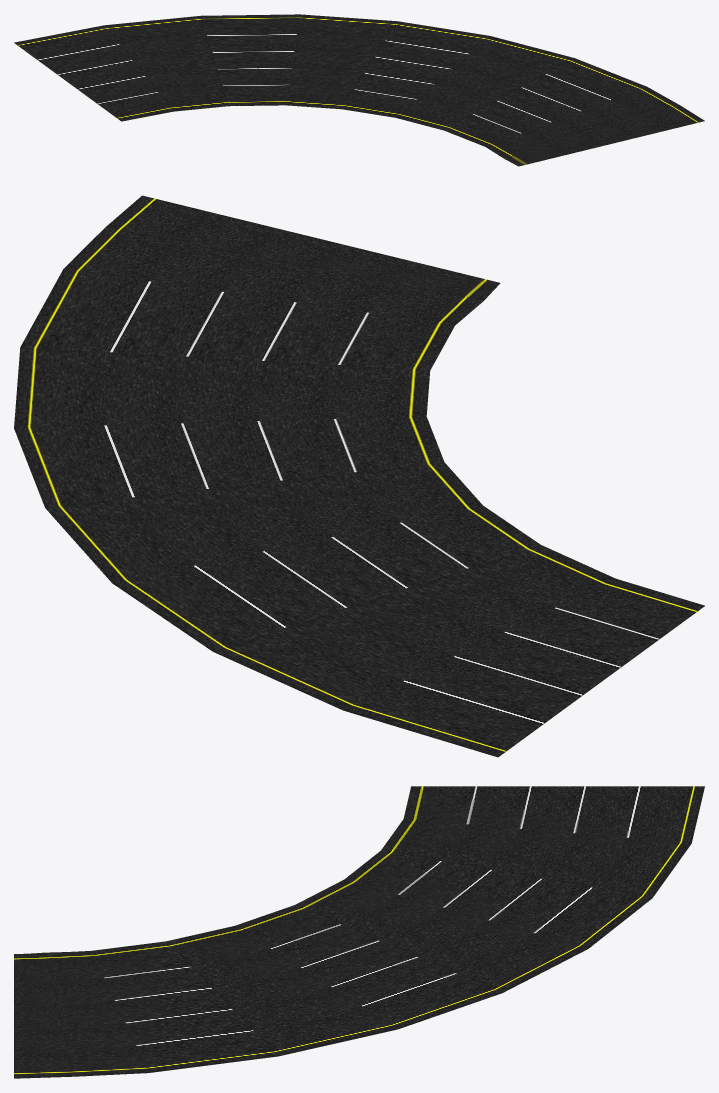
File: curved_5lane_50m.dae
3 renders of one model, top to bottom at view 1: azimuth 30°, elevation 25°; view 2: azimuth 150°, elevation 25°; view 3: azimuth 270°, elevation 25°, orthographic. The views are drawn at different scales.
Visible parts, largest first — view 1: Cube; view 2: Cube; view 3: Cube.
Boxes of the visible parts, x1,y1,x2,y2 form: Cube: (14, 14, 704, 166); Cube: (14, 195, 704, 757); Cube: (14, 786, 704, 1078).
Size of the model in its own units: 63.5 by 63.5 by 0.0462.
1 material, 1 textured.
